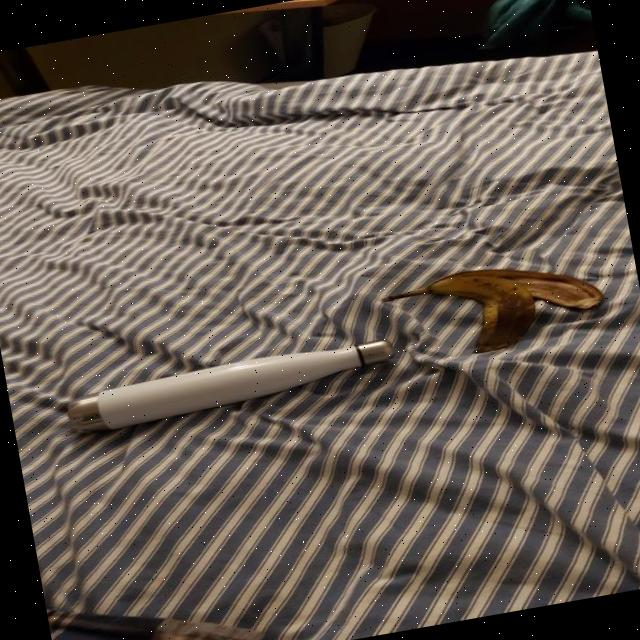banana-peel: (378, 244, 608, 370)
